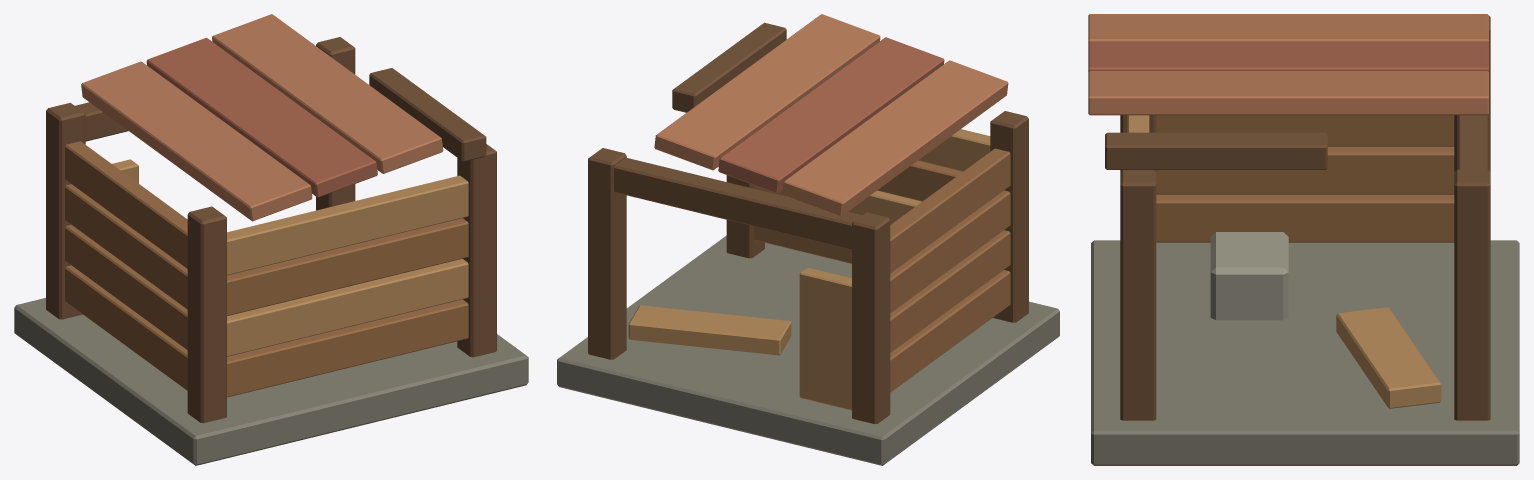
Rendered from warm_shack.glb.
3 renders of one model, left to right at view 1: azimuth 30°, elevation 25°; view 2: azimuth 150°, elevation 25°; view 3: azimuth 270°, elevation 25°, orthographic. The views are drawn at different scales.
Parts seen in each view (by area): view 1: shack_sample_wood, shack_sample_stone_dark, shack_sample_roof_light, shack_sample_wood_dark, shack_sample_wood_light, shack_sample_roof; view 2: shack_sample_stone_dark, shack_sample_wood_dark, shack_sample_roof_light, shack_sample_wood, shack_sample_wood_light, shack_sample_roof; view 3: shack_sample_stone_dark, shack_sample_wood, shack_sample_roof_light, shack_sample_wood_dark, shack_sample_roof, shack_sample_stone, shack_sample_wood_light.
Boxes of the visible parts, left/top/right/bottom form: shack_sample_wood: left=65, top=141, right=468, bottom=397; shack_sample_stone_dark: left=14, top=298, right=528, bottom=465; shack_sample_roof_light: left=81, top=14, right=443, bottom=221; shack_sample_wood_dark: left=46, top=37, right=496, bottom=423; shack_sample_wood_light: left=112, top=159, right=468, bottom=356; shack_sample_roof: left=146, top=37, right=377, bottom=197; shack_sample_stone_dark: left=557, top=235, right=1059, bottom=465; shack_sample_wood_dark: left=588, top=22, right=1028, bottom=424; shack_sample_roof_light: left=654, top=14, right=1008, bottom=216; shack_sample_wood: left=754, top=148, right=1010, bottom=392; shack_sample_wood_light: left=628, top=129, right=990, bottom=410; shack_sample_roof: left=718, top=37, right=944, bottom=193; shack_sample_stone_dark: left=1091, top=240, right=1519, bottom=465; shack_sample_wood: left=1156, top=115, right=1454, bottom=242; shack_sample_roof_light: left=1088, top=14, right=1488, bottom=115; shack_sample_wood_dark: left=1105, top=16, right=1490, bottom=420; shack_sample_roof: left=1088, top=42, right=1488, bottom=71; shack_sample_stone: left=1210, top=232, right=1288, bottom=320; shack_sample_wood_light: left=1127, top=115, right=1441, bottom=408.
Size of the model in its own units: 0.82 by 0.6326 by 0.775.
